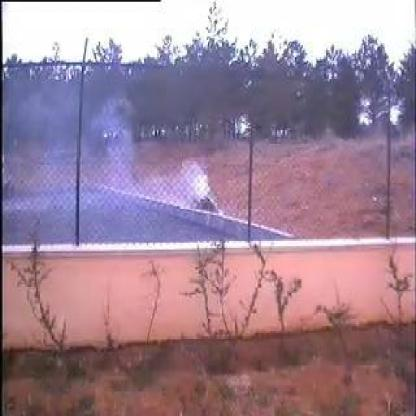-: (81, 75, 252, 242)
